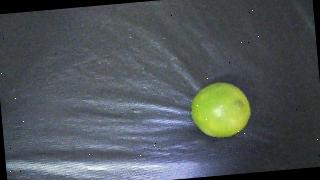LOCAL: (189, 80, 253, 140)
